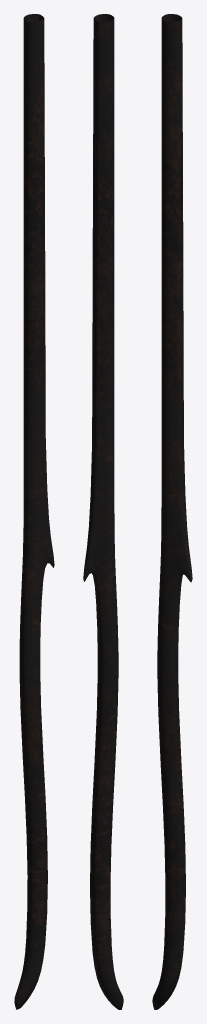
Rendered from wm_dol_goldur_halberd_a01_handle.fbx.
3 views of the same model, side by side, from view 1: azimuth 30°, elevation 25°; view 2: azimuth 210°, elevation 25°; view 3: azimuth 330°, elevation 25° (orthographic).
Parts seen in each view (by area): view 1: wm_dol_goldur_halberd_a01_handle; view 2: wm_dol_goldur_halberd_a01_handle; view 3: wm_dol_goldur_halberd_a01_handle.
Part boxes in pixels (bbox=[...]): wm_dol_goldur_halberd_a01_handle: bbox=[14, 14, 54, 1009]; wm_dol_goldur_halberd_a01_handle: bbox=[83, 14, 123, 1009]; wm_dol_goldur_halberd_a01_handle: bbox=[152, 14, 192, 1009].
Bounding box in the file's own units: 0.0702 × 0.0298 × 1.66.
Materials: 1 (1 with a texture image).
